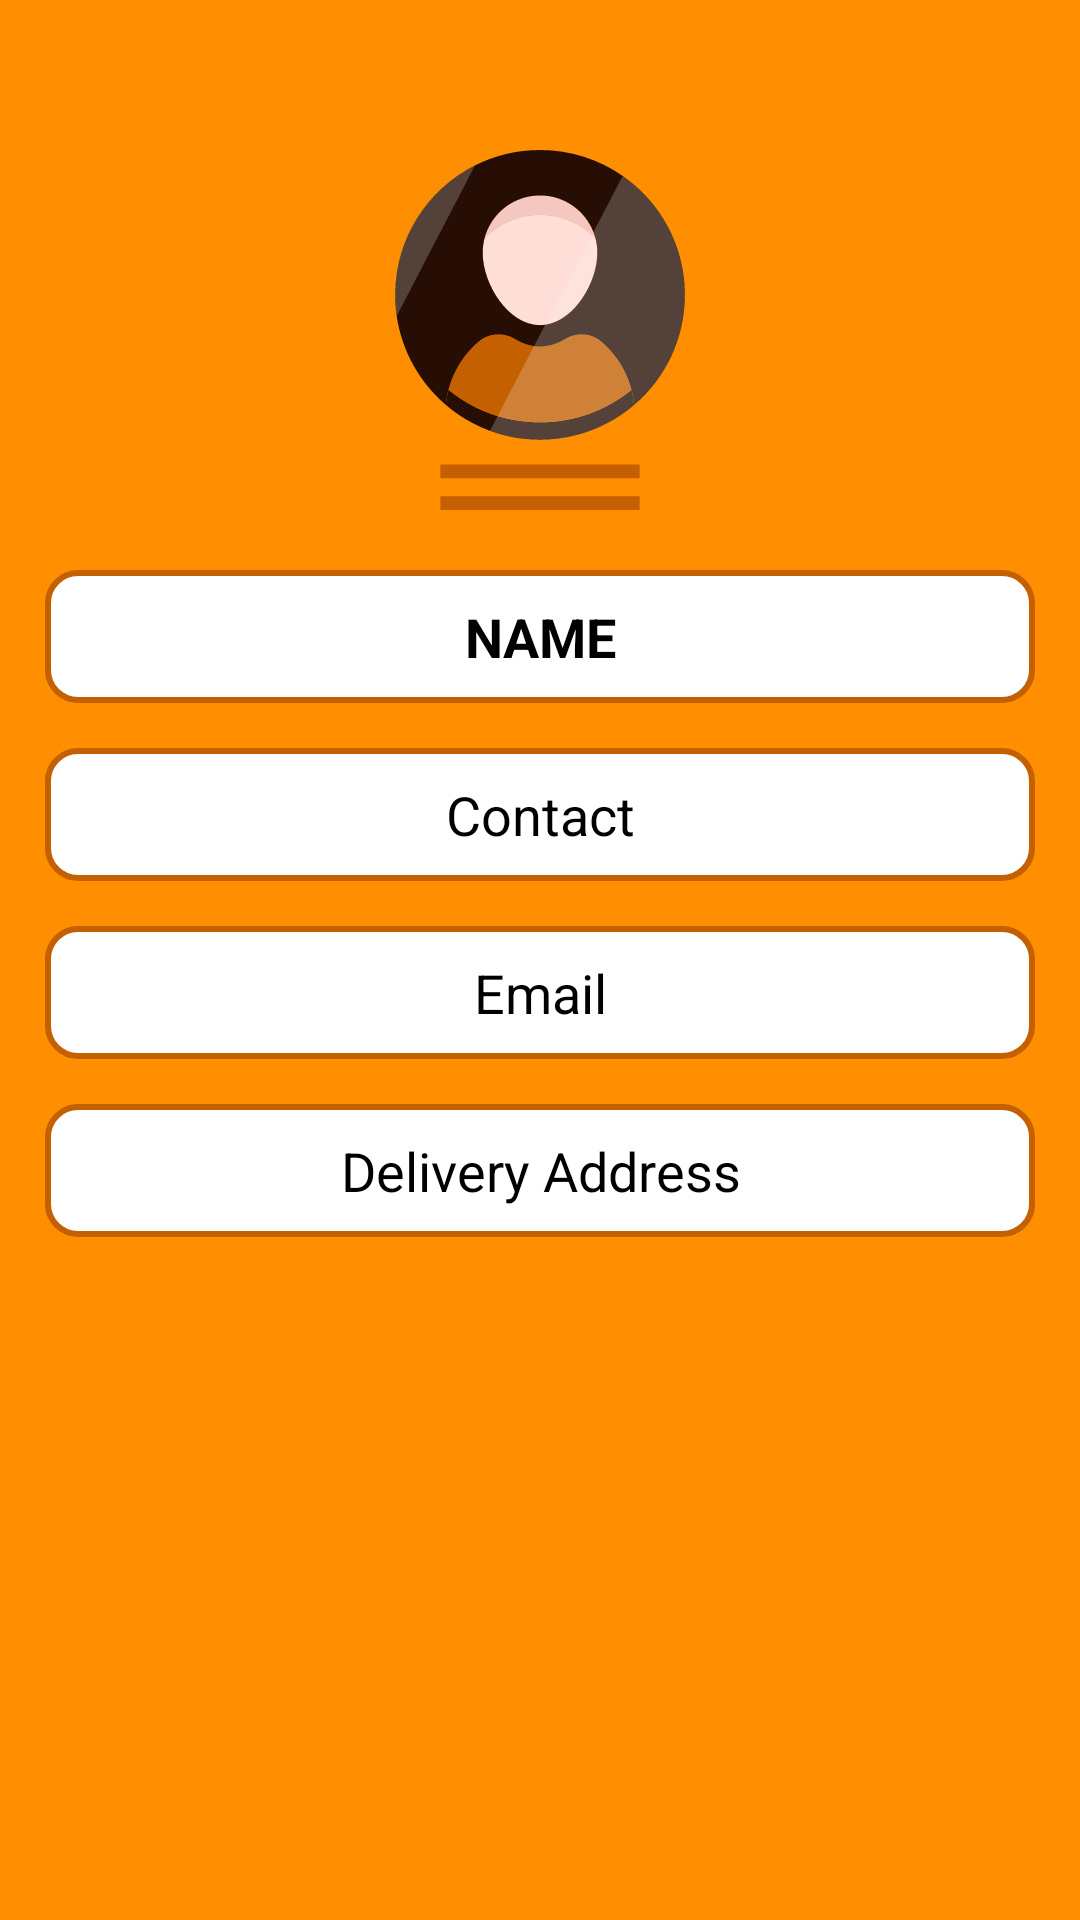

Icon click points for this 1080 × 1920 phone screenshot, format point (x, y):
profile: point (540, 330)
